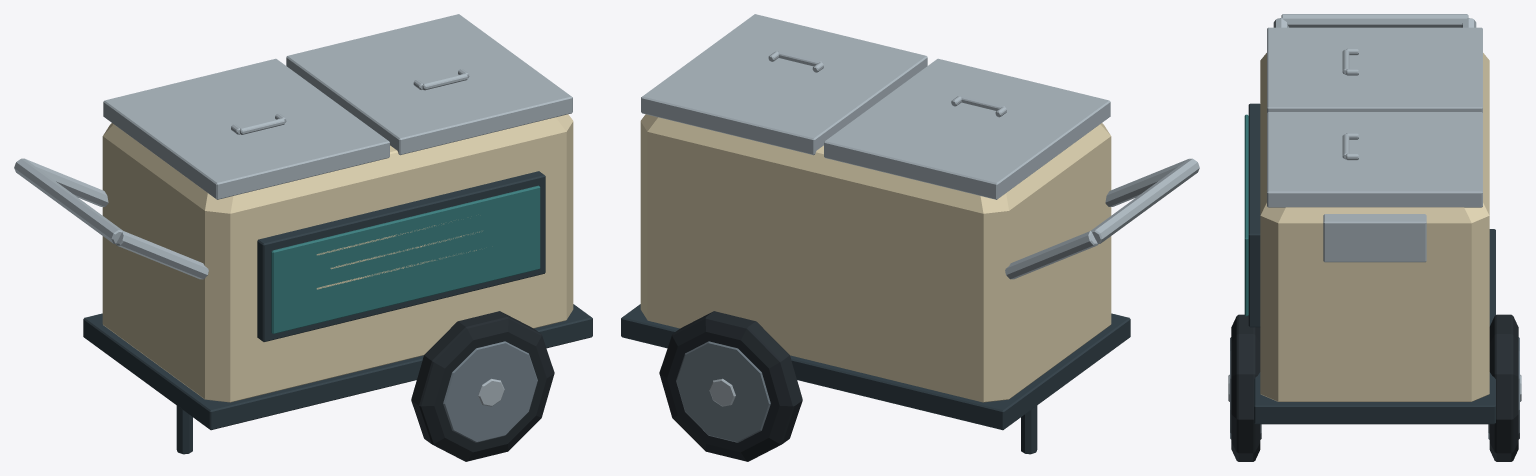
Rendered from b10_insulated_ice_cream_pushcart.glb.
The picture shows the model from 3 angles, left to right: view 1: azimuth 30°, elevation 25°; view 2: azimuth 150°, elevation 25°; view 3: azimuth 270°, elevation 25°; orthographic projection. The views are drawn at different scales.
Parts seen in each view (by area): view 1: b10_insulated_ice_cream_pushcart; view 2: b10_insulated_ice_cream_pushcart; view 3: b10_insulated_ice_cream_pushcart.
Part boxes in pixels (x1,y1,x2,y2): b10_insulated_ice_cream_pushcart: (14,14,592,461); b10_insulated_ice_cream_pushcart: (621,14,1199,461); b10_insulated_ice_cream_pushcart: (1228,14,1521,461).
Bounding box in the file's own units: 1.6 × 1.08 × 0.91.
